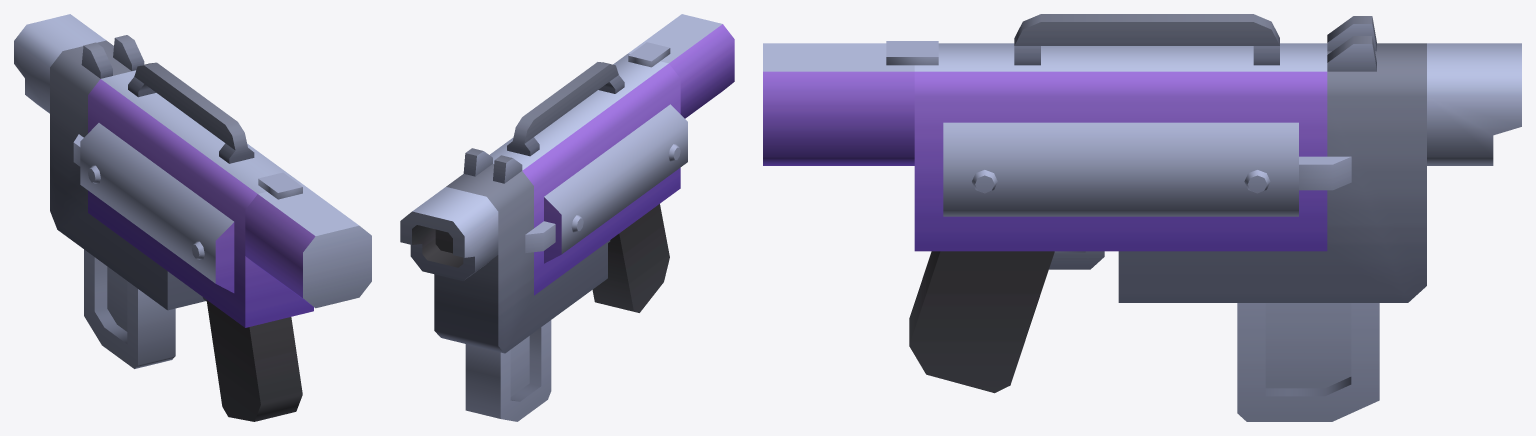
File: blaster-a.glb
3 renders of one model, left to right at view 1: azimuth 30°, elevation 25°; view 2: azimuth 150°, elevation 25°; view 3: azimuth 270°, elevation 25°, orthographic. The views are drawn at different scales.
Visible parts, largest first — view 1: blaster-a, magazine; view 2: blaster-a, magazine; view 3: blaster-a, magazine.
Boxes of the visible parts, x1=… form: blaster-a: x1=14, y1=14, x2=371, y2=421; magazine: x1=84, y1=249, x2=175, y2=368; blaster-a: x1=400, y1=14, x2=734, y2=353; magazine: x1=465, y1=320, x2=551, y2=421; blaster-a: x1=763, y1=14, x2=1521, y2=393; magazine: x1=1237, y1=303, x2=1379, y2=421.
Bounding box in the file's own units: 0.1838 × 0.4559 × 0.8.
1 material, 1 textured.
